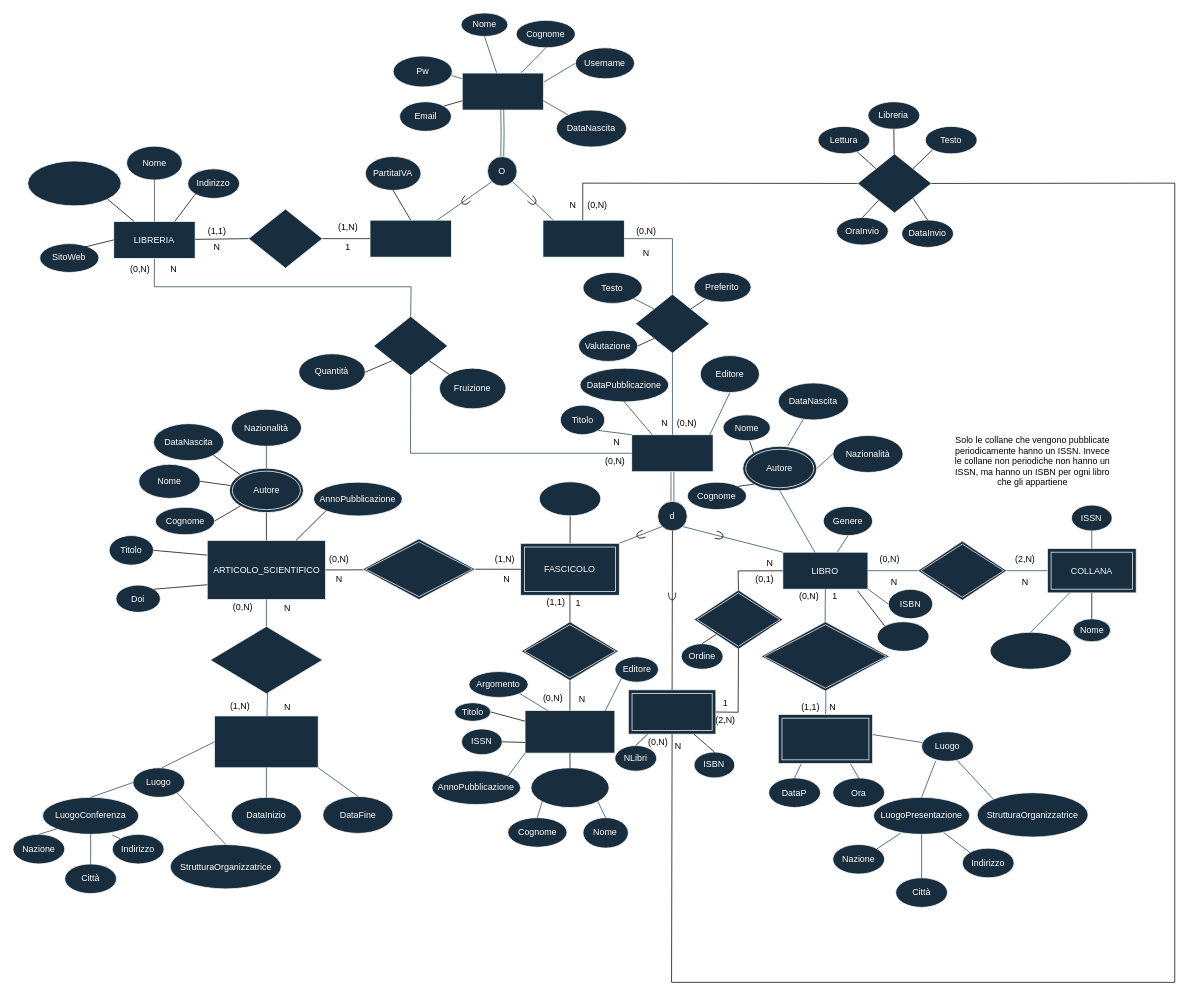
Some shapes in this 1188 by 996 pixel diagram are drawn without their labels. Here are the shapes that lost their labels. From the top down, the centre of each, then its label:
At (502,91): "UTENTE".
At (74,183): "NumeroTelefonico".
At (894,183): "NOTIFICA".
At (285,238): "GESTIONE".
At (410,238): "VENDITORE".
At (583,238): "STANDARD".
At (672,323): "RECENSIONE".
At (410,346): "POSSESSO".
At (672,453): "ELEMENTO".
At (569,498): "Numero".
At (418,569): "INTRODUZIONE".
At (962,570): "APPARTENENZA".
At (738,619): "INSERIMENTO".
At (902,636): "Lingua".
At (266,660): "ESPOSIZIONE".
At (569,651): "COMPOSIZIONE".
At (824,656): "PARTECIPAZIONE".
At (1030,650): "Caratteristica".
At (569,731): "RIVISTA".
At (672,711): "SERIE".
At (266,741): "CONFERENZA".
At (825,739): "PRESENTAZIONE".
At (569,787): "Responsabile".
